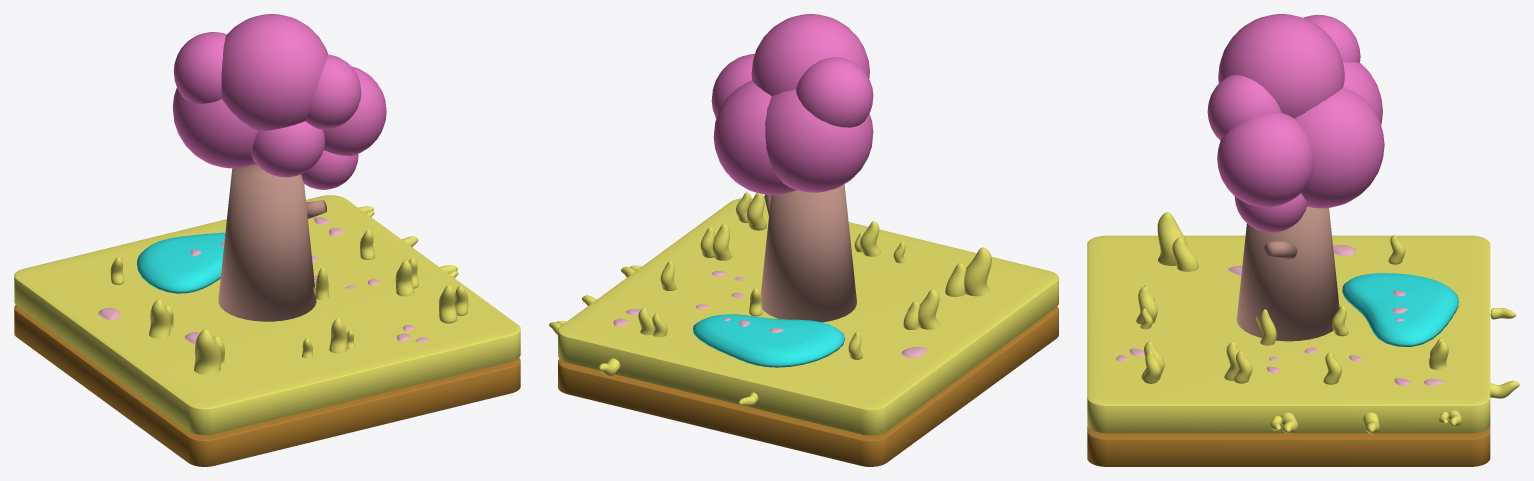
File: tree-puddle-scene.glb
The picture shows the model from 3 angles, left to right: view 1: azimuth 30°, elevation 25°; view 2: azimuth 150°, elevation 25°; view 3: azimuth 270°, elevation 25°; orthographic projection. The views are drawn at different scales.
Visible parts, largest first — view 1: Grass_Surface, Sand_Surface, Tree_Main_Trunk, Master_Tree_Blob, Master_Tree_Blob.001, Lake, Master_Tree_Blob.006, Master_Tree_Blob.003, Master_Tree_Blob.005, Master_Tree_Blob.004, Master_Tree_Blob.007, Cylinder.025 (+4 smaller); view 2: Grass_Surface, Sand_Surface, Tree_Main_Trunk, Master_Tree_Blob.001, Lake, Master_Tree_Blob, Master_Tree_Blob.002, Master_Tree_Blob.003, Master_Tree_Blob.005, Cylinder.025, Cylinder.013, main_grass (+3 smaller); view 3: Grass_Surface, Sand_Surface, Tree_Main_Trunk, Master_Tree_Blob, Master_Tree_Blob.002, Master_Tree_Blob.005, Lake, Master_Tree_Blob.004, Master_Tree_Blob.007, Master_Tree_Blob.001, Master_Tree_Blob.003, Cylinder.025 (+4 smaller).
Boxes of the visible parts, box(x1,y1,x2,y2) form: Grass_Surface: box(14, 195, 520, 435); Sand_Surface: box(14, 305, 520, 466); Tree_Main_Trunk: box(218, 164, 316, 321); Master_Tree_Blob: box(221, 14, 328, 130); Master_Tree_Blob.001: box(172, 88, 257, 168); Lake: box(137, 232, 225, 293); Master_Tree_Blob.006: box(252, 121, 324, 177); Master_Tree_Blob.003: box(173, 32, 226, 103); Master_Tree_Blob.005: box(323, 66, 386, 155); Master_Tree_Blob.004: box(305, 54, 361, 129); Master_Tree_Blob.007: box(301, 150, 358, 189); Cylinder.025: box(194, 329, 221, 374); Grass_Surface: box(558, 198, 1058, 435); Sand_Surface: box(558, 306, 1058, 466); Tree_Main_Trunk: box(761, 184, 856, 322); Master_Tree_Blob.001: box(765, 89, 873, 192); Lake: box(693, 314, 844, 367); Master_Tree_Blob: box(751, 14, 869, 95); Master_Tree_Blob.002: box(713, 80, 796, 195); Master_Tree_Blob.003: box(796, 57, 873, 127); Master_Tree_Blob.005: box(711, 54, 754, 118); Cylinder.025: box(964, 247, 991, 296); Cylinder.013: box(918, 289, 939, 329); main_grass: box(746, 193, 766, 230); Grass_Surface: box(1087, 235, 1490, 433); Sand_Surface: box(1087, 425, 1490, 466); Tree_Main_Trunk: box(1236, 206, 1339, 341); Master_Tree_Blob: box(1218, 14, 1344, 118); Master_Tree_Blob.002: box(1295, 87, 1384, 208); Master_Tree_Blob.005: box(1217, 112, 1313, 207); Lake: box(1342, 273, 1458, 346); Master_Tree_Blob.004: box(1207, 75, 1281, 140); Master_Tree_Blob.007: box(1234, 193, 1307, 232); Master_Tree_Blob.001: box(1343, 62, 1382, 125); Master_Tree_Blob.003: box(1303, 14, 1360, 62); Cylinder.025: box(1157, 212, 1187, 265).
Size of what is drawn, in the model's own units: 2.15 by 1.99 by 2.15.
